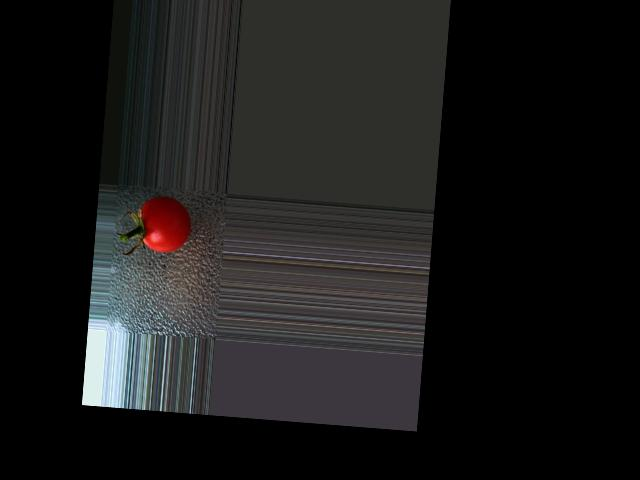tomato: (137, 195, 193, 255)
